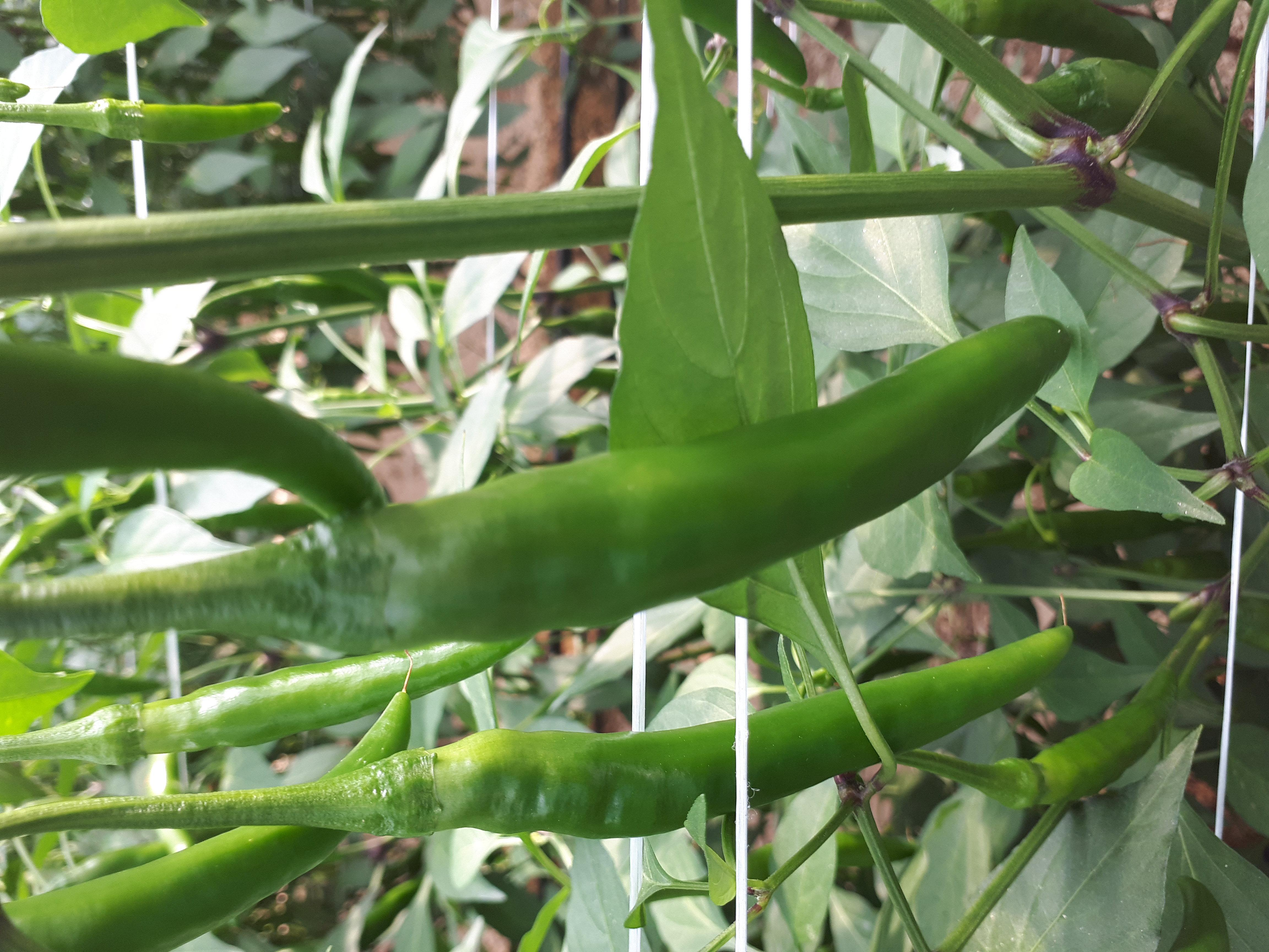Buah Cabai Sehat: (289, 307, 1096, 652), (347, 621, 1081, 843)
